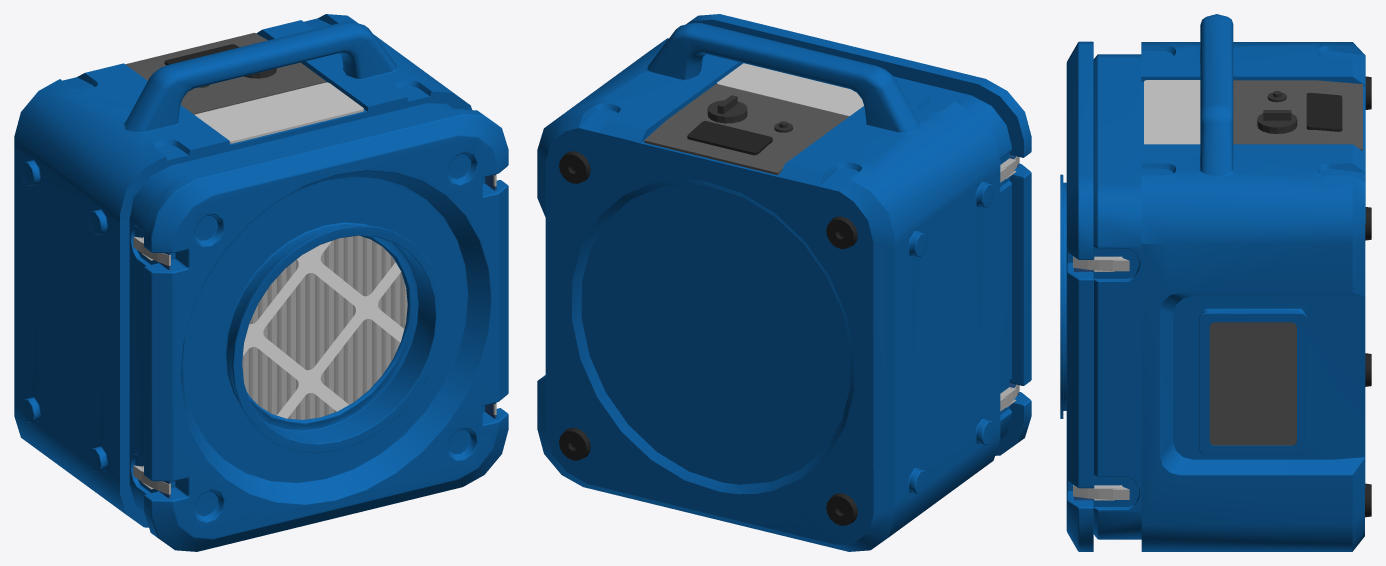
File: co2-scrubber.glb
3 views of the same model, side by side, from view 1: azimuth 30°, elevation 25°; view 2: azimuth 150°, elevation 25°; view 3: azimuth 270°, elevation 25° (orthographic).
Visible parts, largest first — view 1: c02-scrubber; view 2: c02-scrubber; view 3: c02-scrubber.
Part boxes in pixels (box(x1,y1,x2,y2)): c02-scrubber: box(14, 14, 508, 551); c02-scrubber: box(537, 14, 1031, 551); c02-scrubber: box(1060, 14, 1371, 551).
Size of the model in its own units: 0.5782 by 0.6415 by 0.4278.
Materials: 1 (1 with a texture image).
